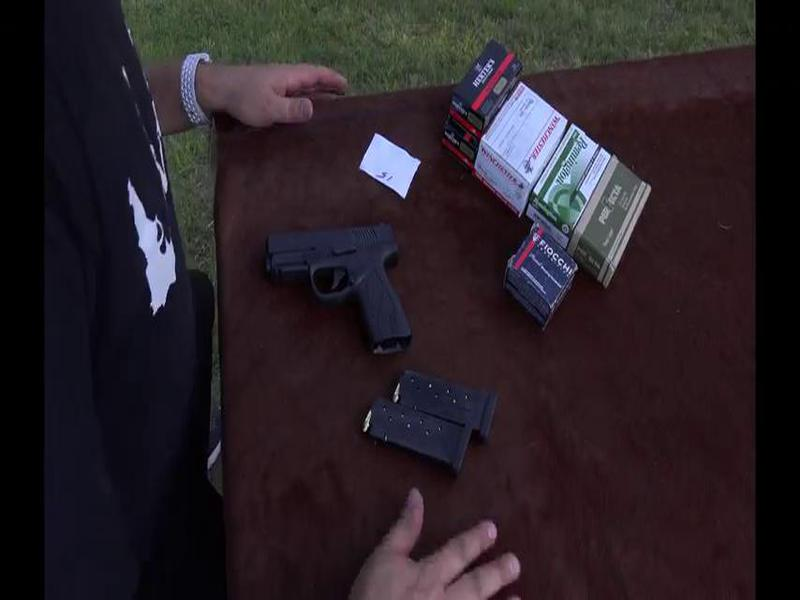Pistola: (266, 225, 467, 383)
